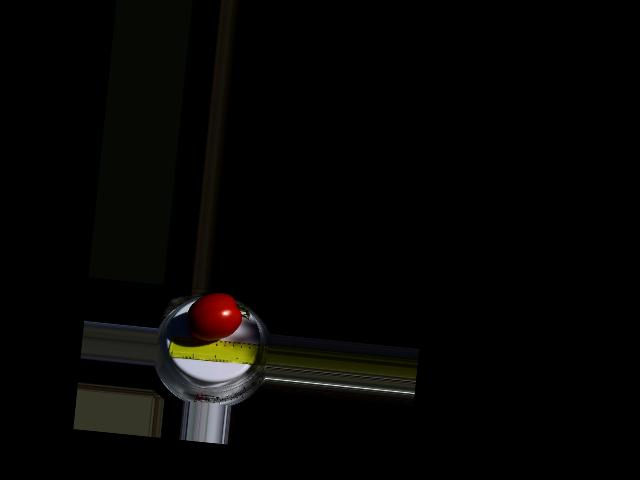tomato: (185, 289, 245, 344)
